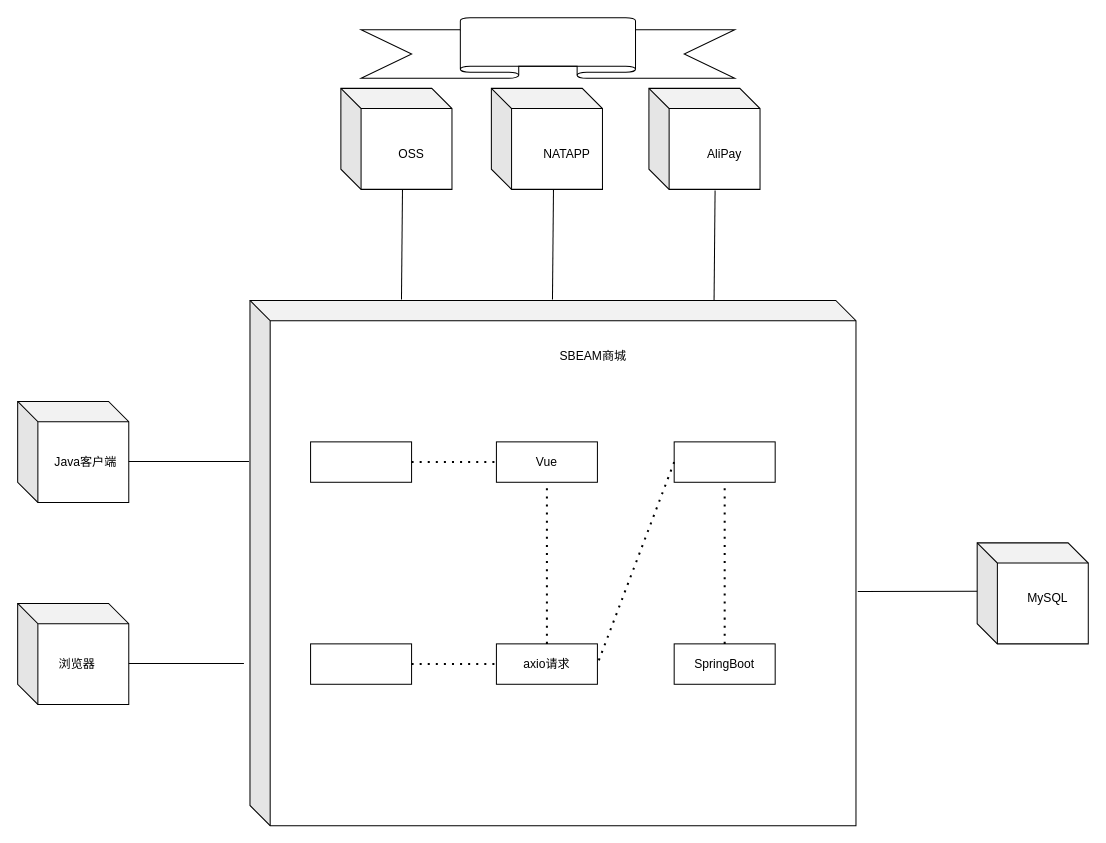
This 1106x843 diagram has some shape labels left out. Here are the shapes that lost their labels. From the top down, the centre of each, then its label:
At pixel 547 47: "体系结构的部署图".
At pixel 361 461: "EL".
At pixel 724 461: "Node.js".
At pixel 361 663: "Http服务".
